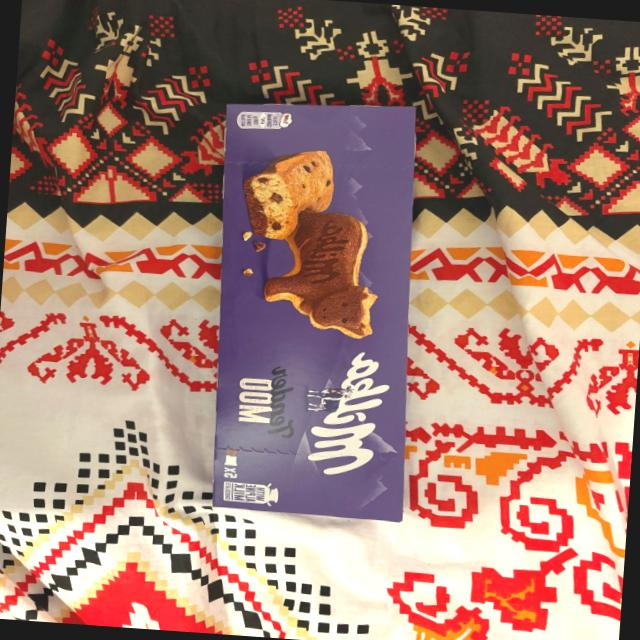good_package: (197, 91, 455, 522)
